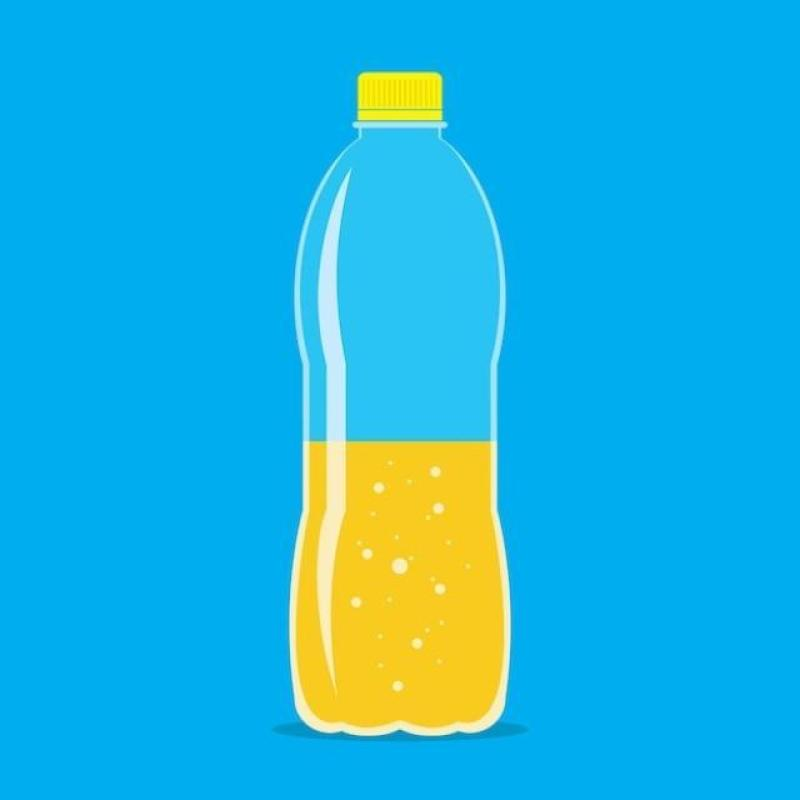botella: (297, 60, 507, 732)
